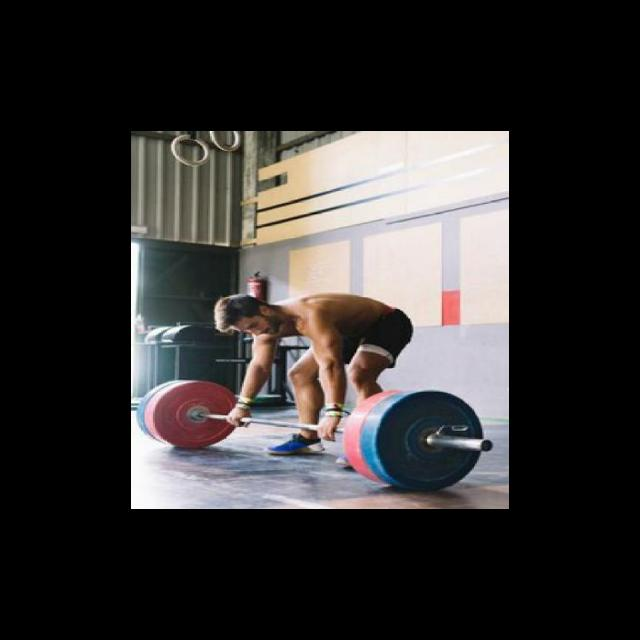barbell: (367, 382, 496, 496)
